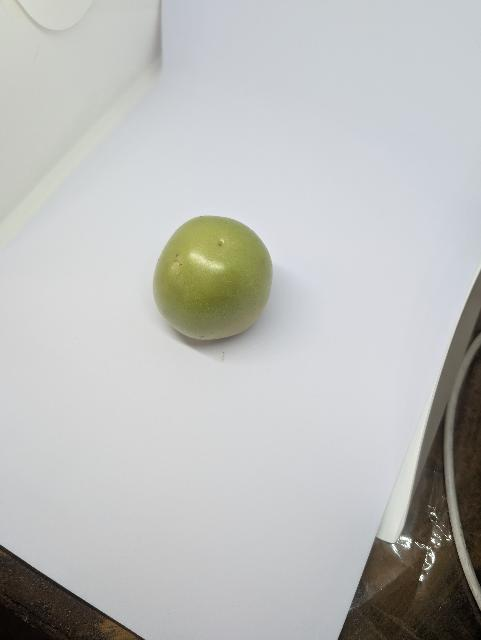green: (140, 201, 292, 362)
